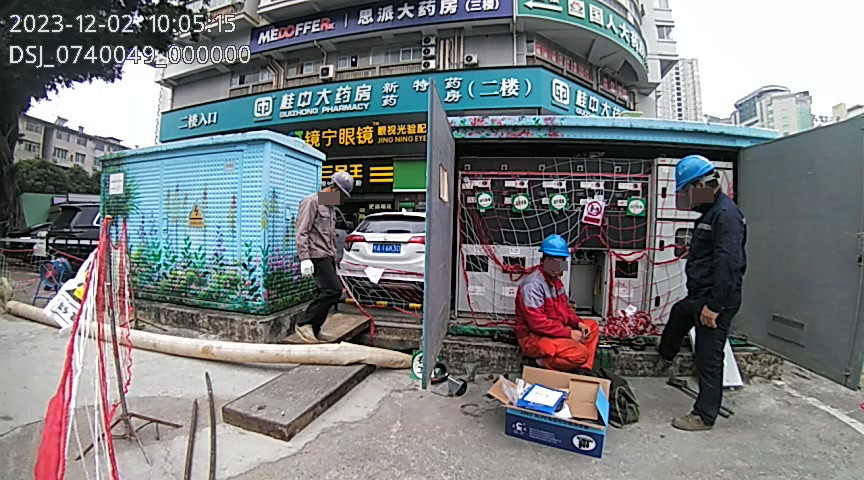downcloth: (658, 295, 737, 415), (309, 261, 341, 332)
halt: (674, 156, 721, 211), (538, 234, 573, 277), (325, 170, 356, 202)
hand: (698, 306, 719, 329), (579, 321, 591, 341), (571, 327, 584, 345)
inear: (691, 177, 708, 201), (327, 180, 340, 199)
intosign: (509, 189, 533, 214), (624, 195, 650, 217), (473, 189, 497, 211), (549, 191, 569, 214)
person: (656, 155, 751, 431), (507, 232, 602, 372), (291, 168, 358, 342)
upcloth: (513, 275, 580, 337), (293, 196, 345, 258)
upsuit: (682, 197, 747, 296)
wglove: (299, 258, 316, 280)
worksign: (410, 344, 444, 383)
ydownsuit: (519, 318, 600, 371)
